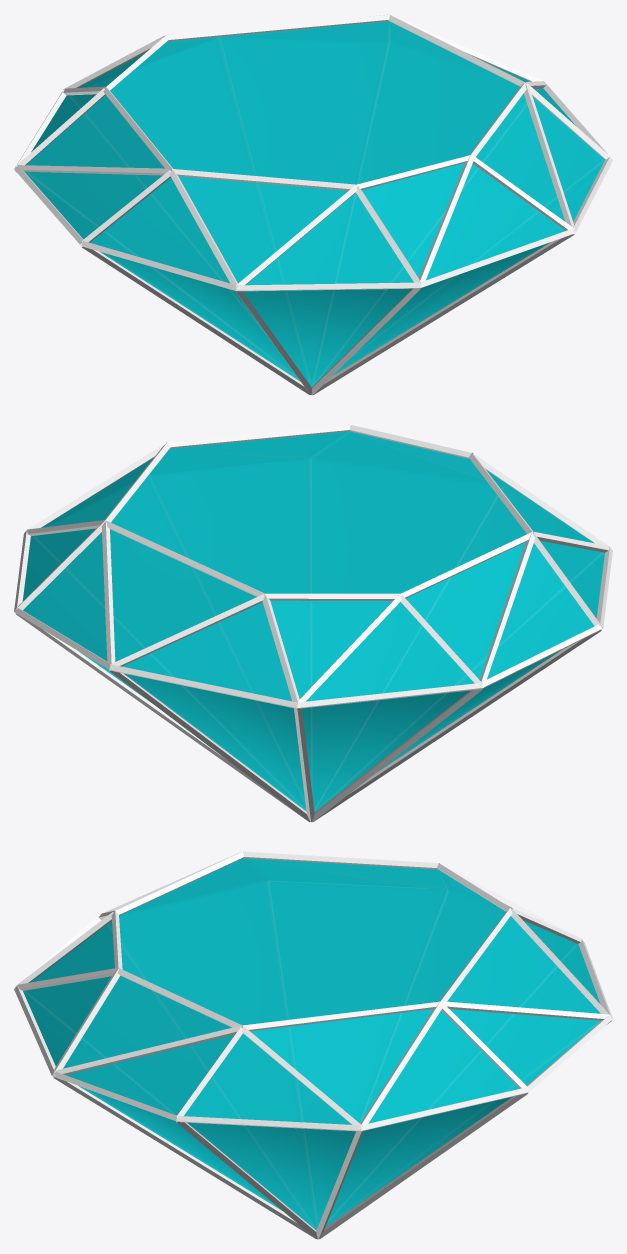
The model's file is diamondoutline.obj.
The picture shows the model from 3 angles, top to bottom: view 1: azimuth 30°, elevation 25°; view 2: azimuth 150°, elevation 25°; view 3: azimuth 270°, elevation 25°; orthographic projection. The views are drawn at different scales.
Parts seen in each view (by area): view 1: uploads_files_612353_Diamond_00.001_diamond, uploads_files_612353_Diamond_00_Lines_outline; view 2: uploads_files_612353_Diamond_00.001_diamond, uploads_files_612353_Diamond_00_Lines_outline; view 3: uploads_files_612353_Diamond_00.001_diamond, uploads_files_612353_Diamond_00_Lines_outline.
Part boxes in pixels (x1,y1,x2,y2): uploads_files_612353_Diamond_00.001_diamond: (24,21,604,386); uploads_files_612353_Diamond_00_Lines_outline: (14,14,612,395); uploads_files_612353_Diamond_00.001_diamond: (22,431,604,811); uploads_files_612353_Diamond_00_Lines_outline: (14,424,612,822); uploads_files_612353_Diamond_00.001_diamond: (23,858,600,1230); uploads_files_612353_Diamond_00_Lines_outline: (14,851,612,1239).
Bounding box in the file's own units: 76.11 × 42.84 × 75.96.
